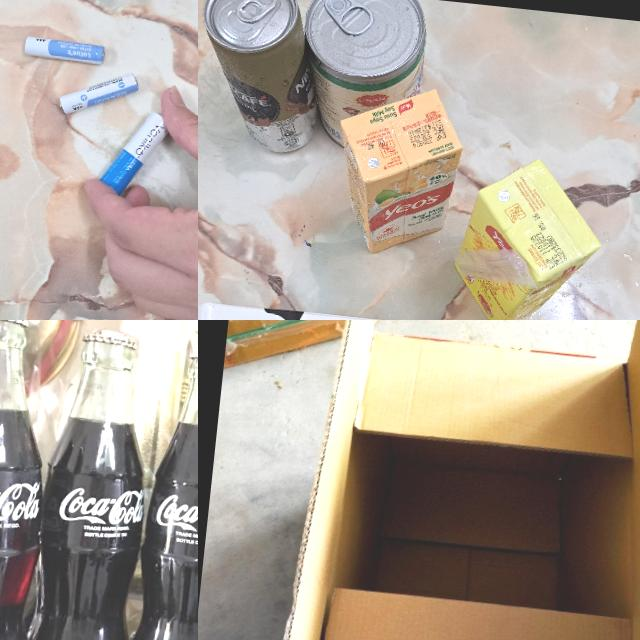aba de lata: (322, 0, 376, 35), (235, 0, 277, 23)
bateria: (95, 104, 171, 200), (56, 65, 140, 122), (21, 34, 106, 66)
caixinha: (449, 151, 609, 320), (327, 78, 468, 262)
garrafa de vidro: (11, 323, 166, 640), (124, 339, 198, 640), (0, 320, 68, 640)
lata: (291, 0, 430, 154), (198, 0, 333, 156)
papelão: (257, 320, 640, 640)
